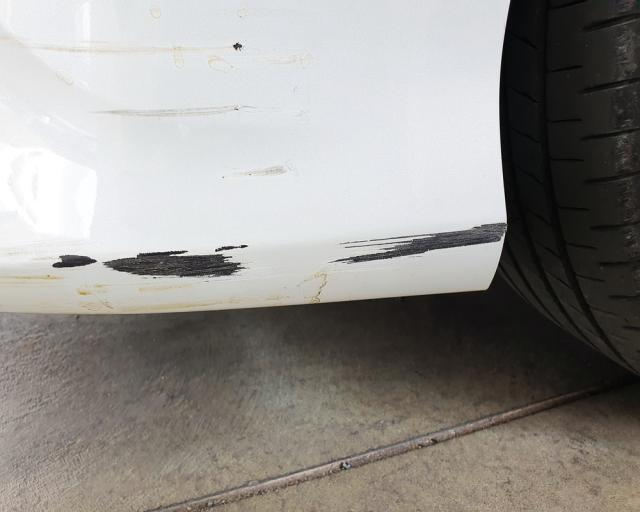scratch: (0, 220, 508, 286)
